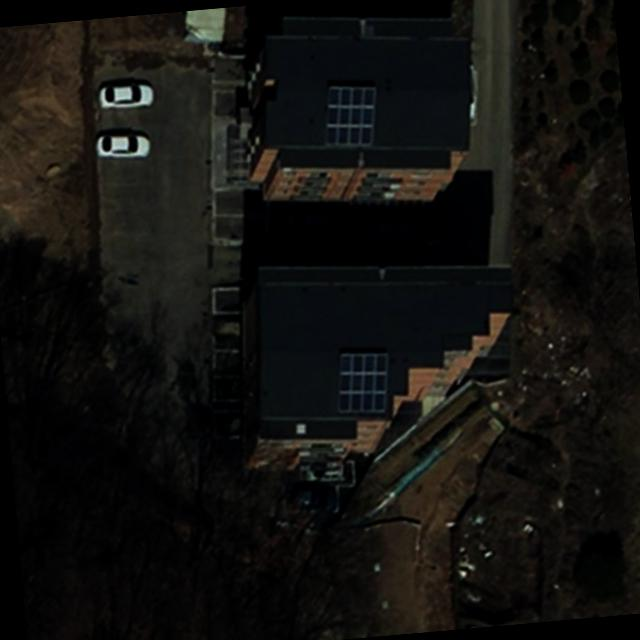solar: (315, 76, 379, 154), (332, 344, 396, 418)
